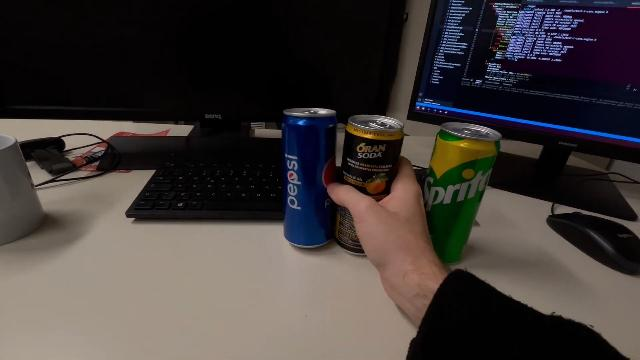OranSoda: (330, 111, 406, 257)
Pepsi: (280, 104, 338, 252)
Sprite: (420, 120, 502, 266)
